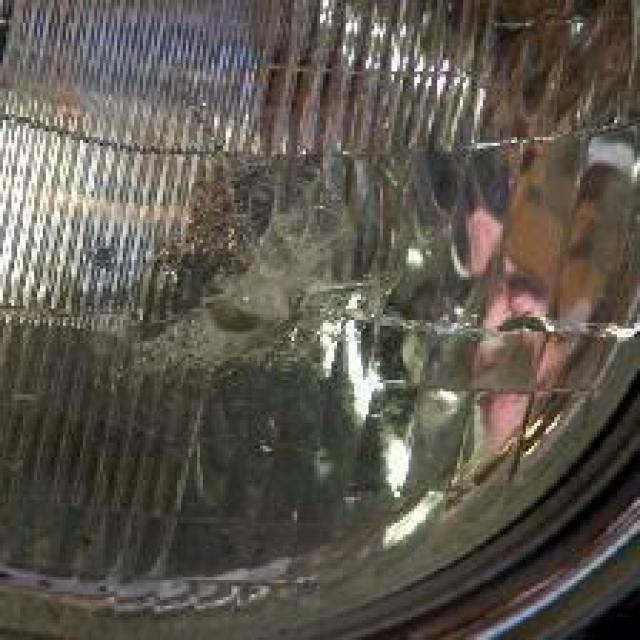damaged: (114, 102, 434, 408)
